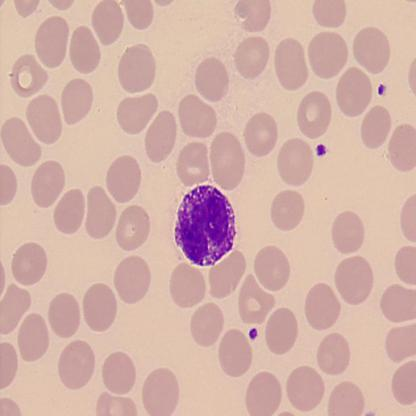Basophil: (173, 179, 240, 270)
